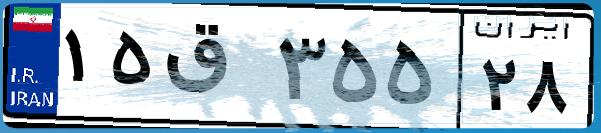1: (57, 26, 110, 100)
2: (475, 38, 525, 113)
3: (270, 28, 330, 110)
5: (385, 28, 445, 110), (330, 28, 385, 110), (110, 28, 158, 98)
8: (525, 38, 570, 115)
ق: (158, 20, 270, 120)
